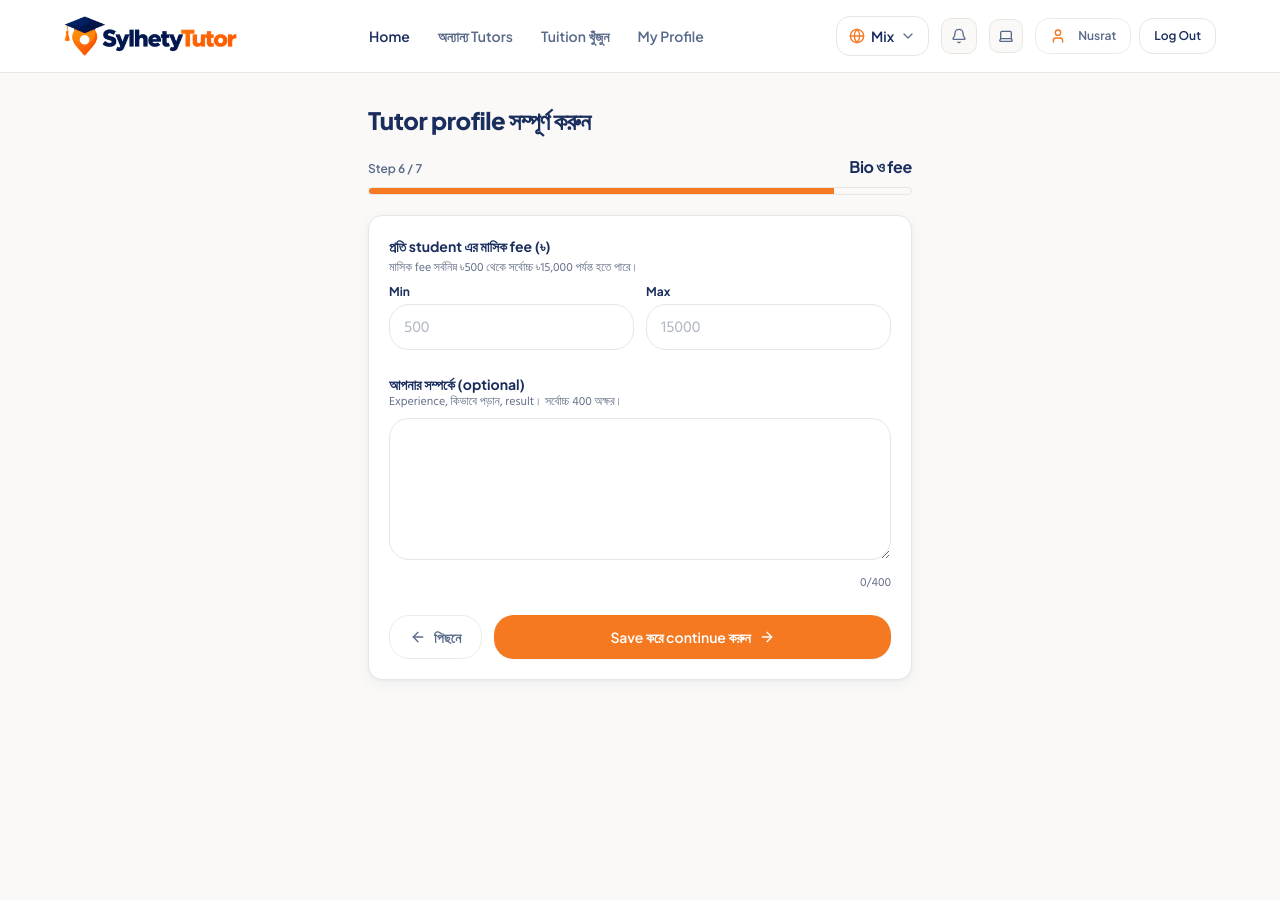
Test: TutorRegistration › step 6: bio and fee › needs both fees and keeps only digits
The image size is (1280, 900).
Step 1. Click the button "Save করে continue করুন" → [693, 637], box [494, 615, 891, 659]
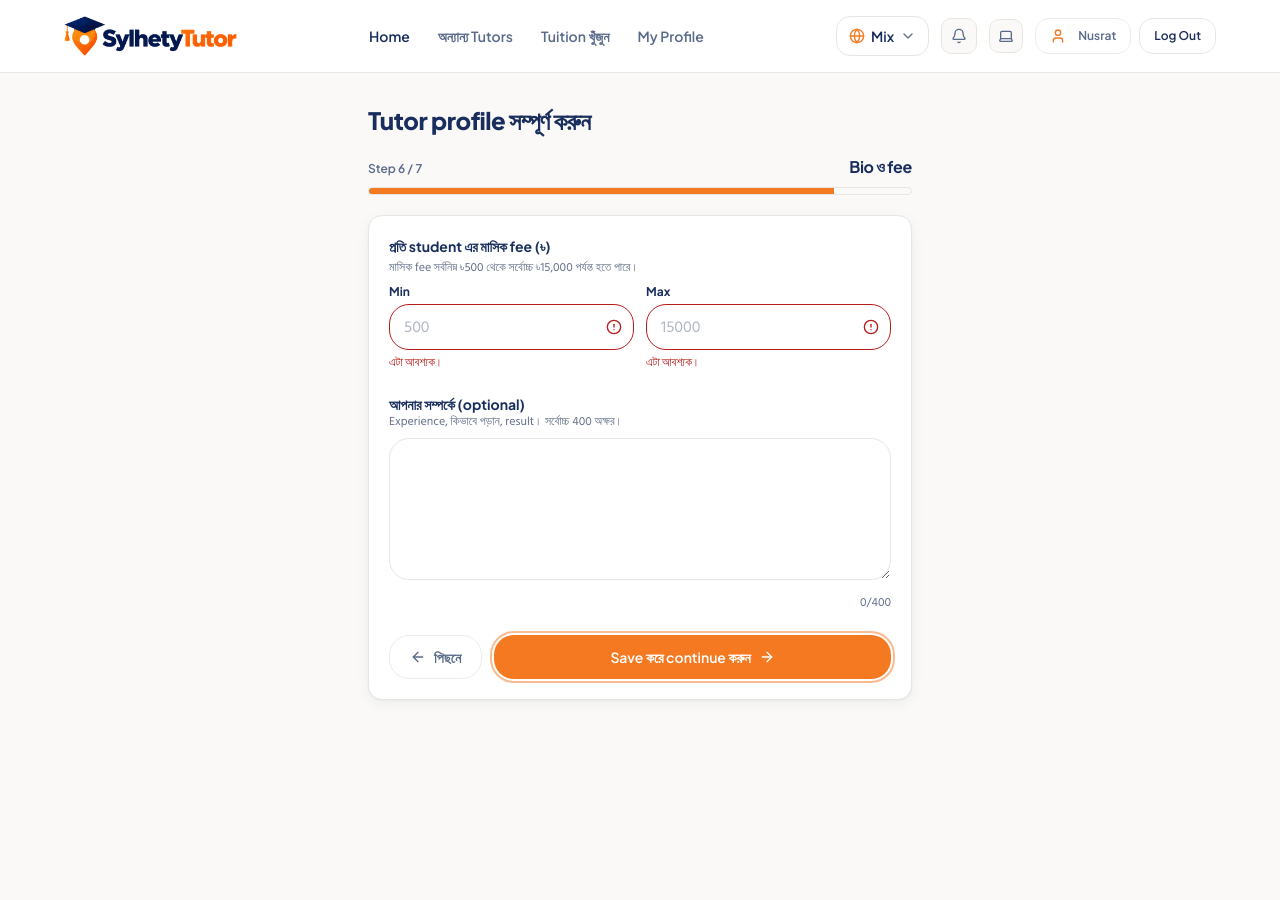
Result: the text "এটা আবশ্যক।" is shown 2 times at [389, 354, 443, 369]; [646, 354, 700, 369]
Step 2. Type "3a,5 00" into the field labelled "Min" → [512, 327], box [389, 304, 634, 350]
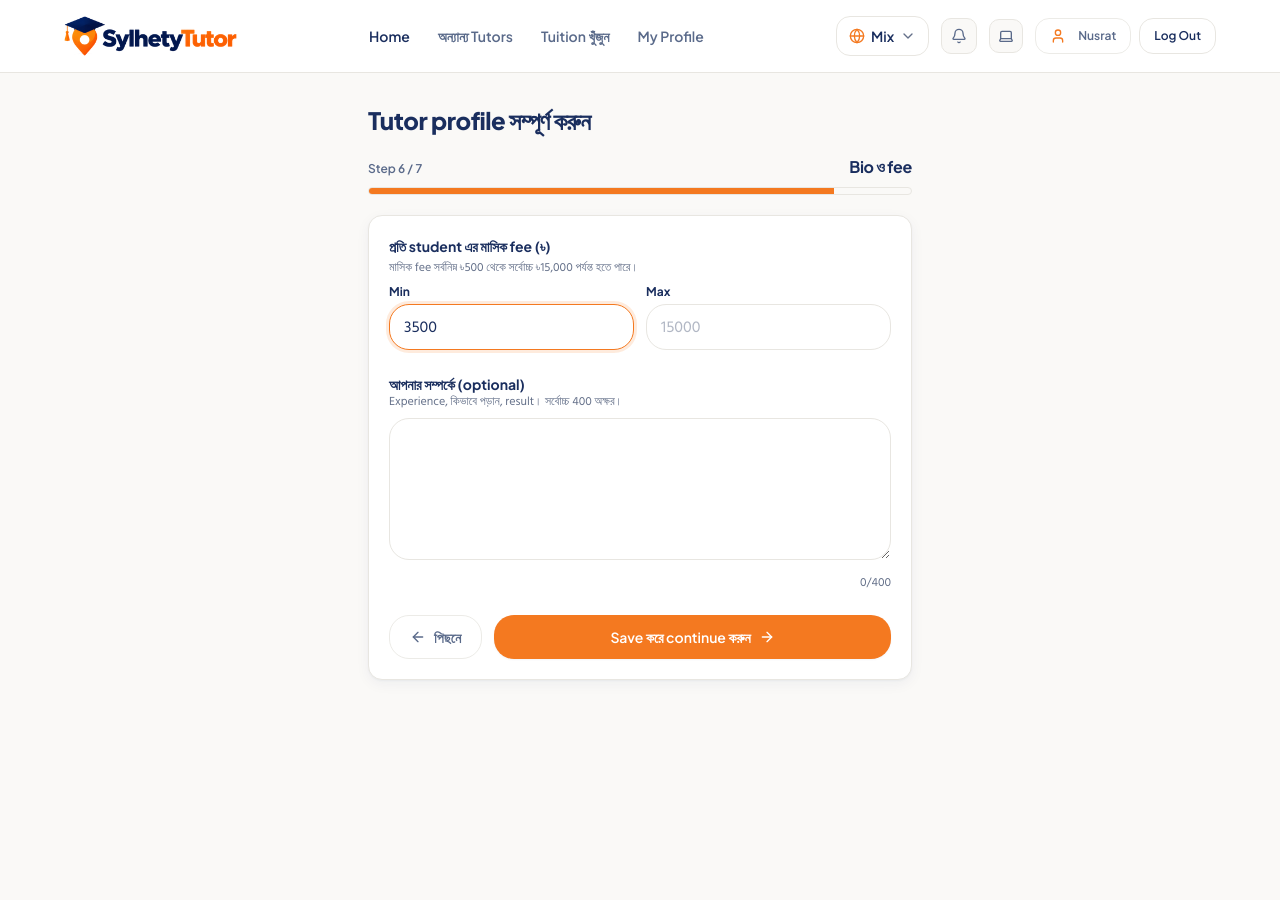
Result: the field labelled "Min" holds "3500" at [389, 304, 634, 350]
